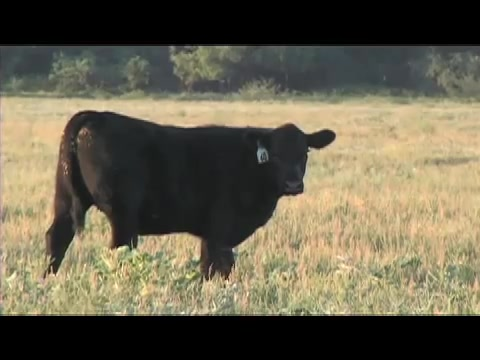cow: (43, 110, 338, 281)
